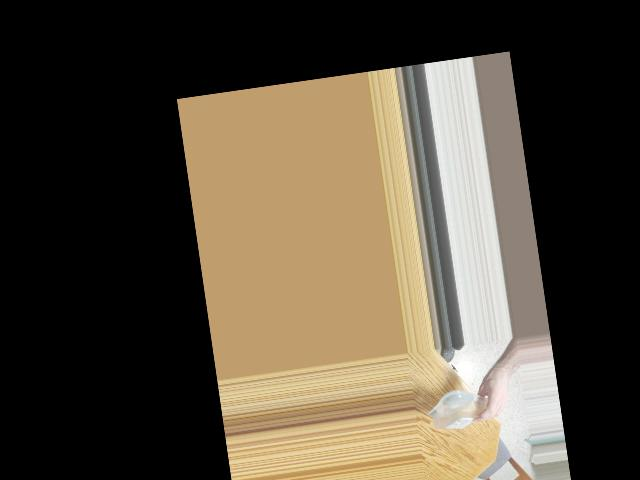cheese: (426, 387, 503, 434)
